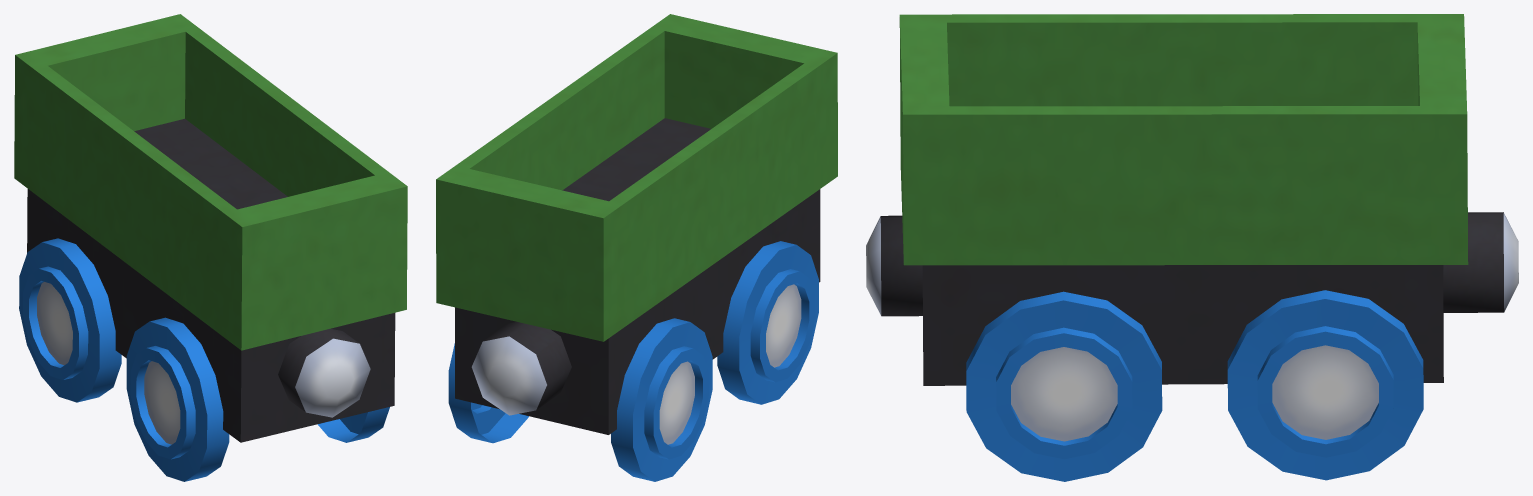
Rendered from Train2.fbx.
The picture shows the model from 3 angles, left to right: view 1: azimuth 30°, elevation 25°; view 2: azimuth 150°, elevation 25°; view 3: azimuth 270°, elevation 25°; orthographic projection. The views are drawn at different scales.
Visible parts, largest first — view 1: Train2, Train2_Bump1; view 2: Train2, Train2_Bump2; view 3: Train2, Train2_Bump2, Train2_Bump1.
Part boxes in pixels (x1,y1,x2,y2): Train2: (14, 14, 407, 481); Train2_Bump1: (278, 328, 370, 417); Train2: (436, 14, 837, 481); Train2_Bump2: (471, 322, 571, 415); Train2: (899, 14, 1468, 481); Train2_Bump2: (1443, 212, 1518, 312); Train2_Bump1: (866, 215, 922, 316).
Size of the model in its own units: 61.06 by 86.23 by 140.
